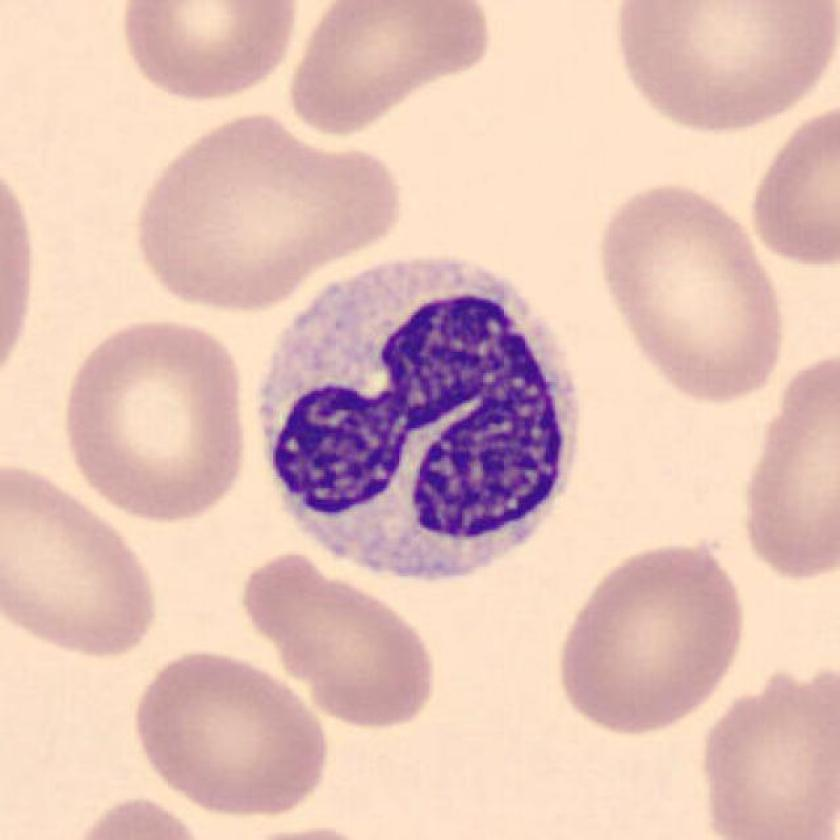neutrophil: (260, 258, 575, 576)
